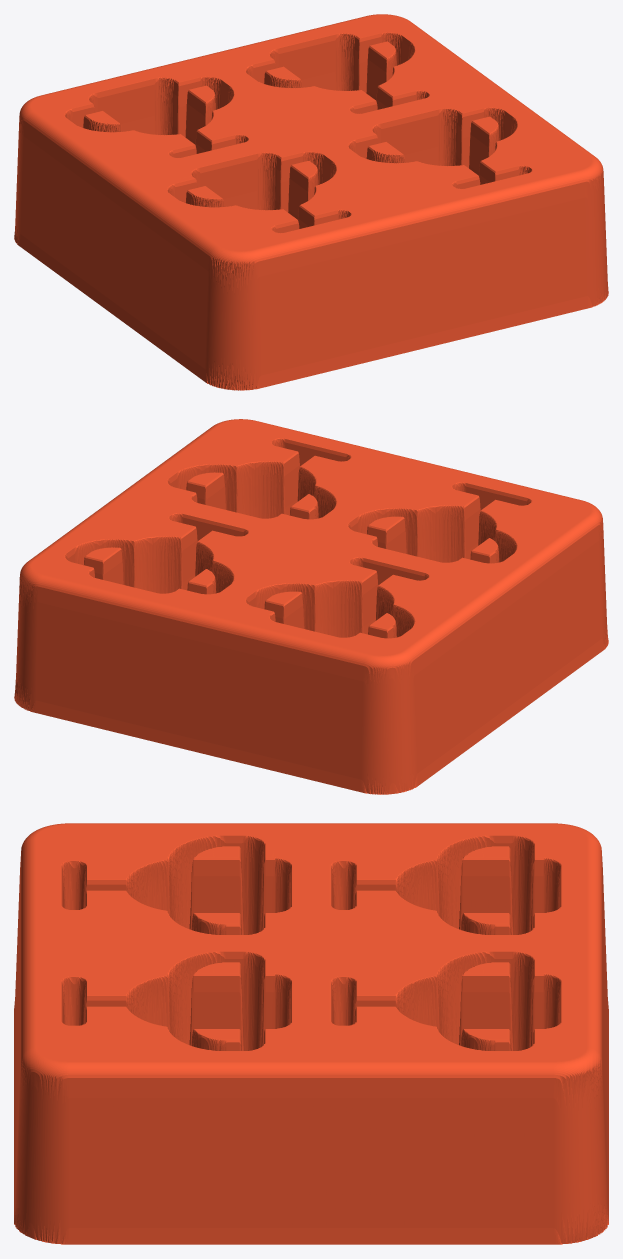
Rendered from mold.glb.
3 views of the same model, one above another, from view 1: azimuth 30°, elevation 25°; view 2: azimuth 150°, elevation 25°; view 3: azimuth 270°, elevation 25° (orthographic). The views are drawn at different scales.
Parts seen in each view (by area): view 1: geometry_0; view 2: geometry_0; view 3: geometry_0.
Part boxes in pixels (bbox=[...]): geometry_0: bbox=[14, 14, 608, 390]; geometry_0: bbox=[14, 419, 608, 794]; geometry_0: bbox=[14, 823, 608, 1244].
Bounding box in the file's own units: 0.0992 × 0.0314 × 0.0976.
